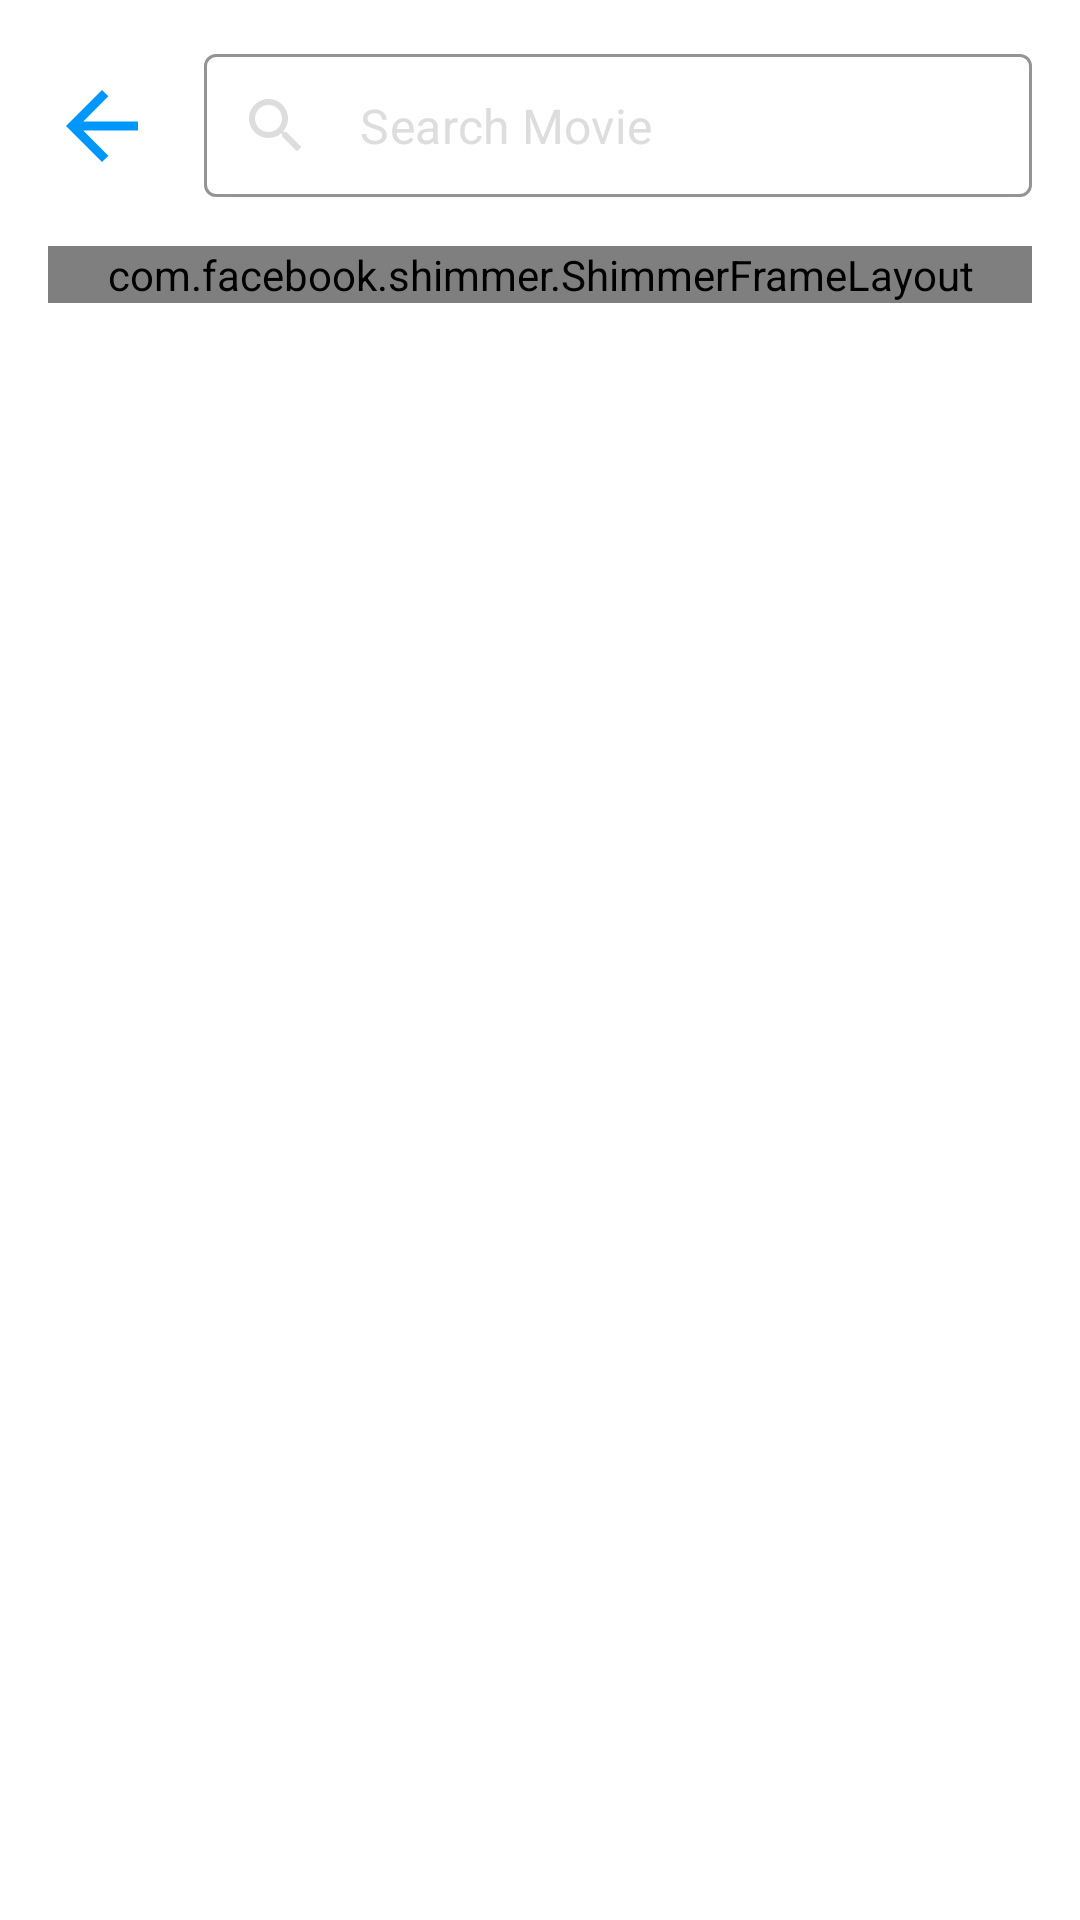

Icon bounding boxes for this 1080 × 1920 phone screenshot, format (x1, y1, x2, y2):
arrow back: (66, 90, 138, 162)
